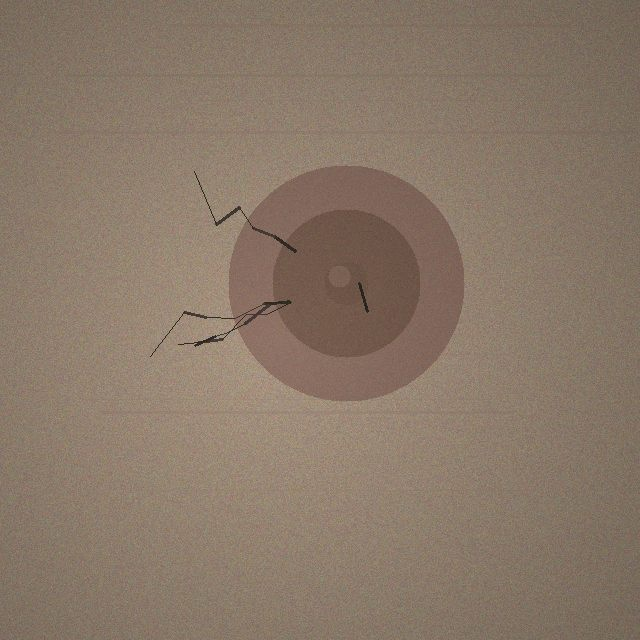crack: (228, 165, 464, 401)
